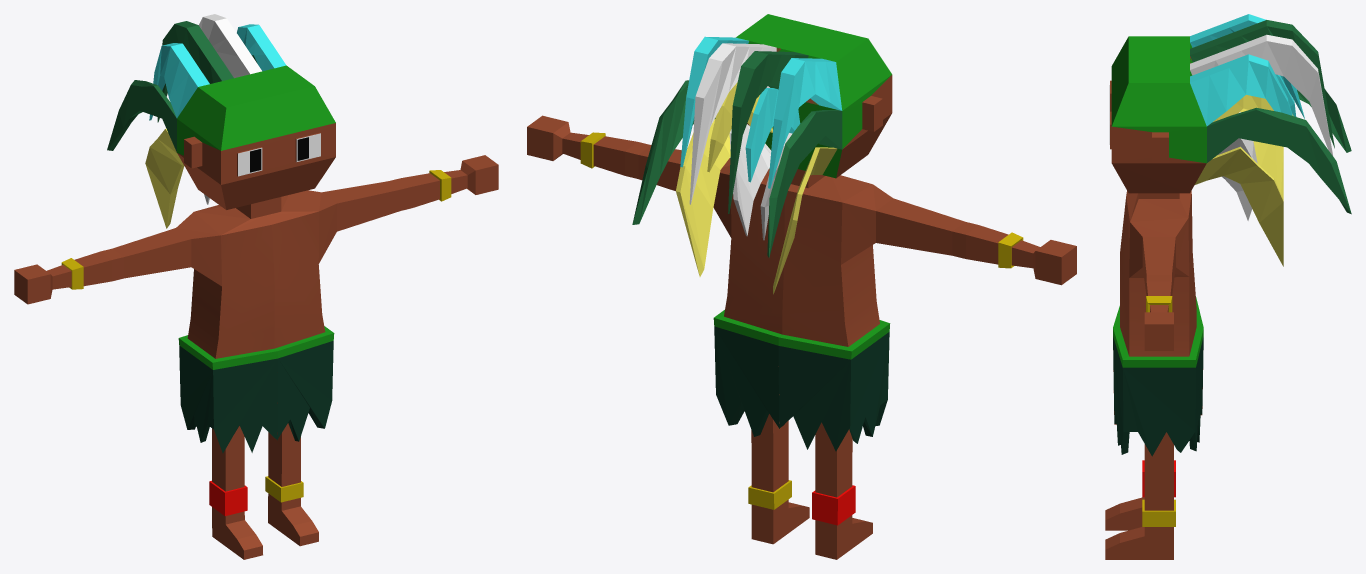
The model's file is Cualli (modelo y texturas).fbx.
3 renders of one model, left to right at view 1: azimuth 30°, elevation 25°; view 2: azimuth 150°, elevation 25°; view 3: azimuth 270°, elevation 25°, orthographic. The views are drawn at different scales.
Parts seen in each view (by area): view 1: Cualli; view 2: Cualli; view 3: Cualli.
Boxes of the visible parts, x1,y1,x2,y2 form: Cualli: (14,14,498,559); Cualli: (527,14,1076,559); Cualli: (1105,14,1351,559).
Size of the model in its own units: 97.44 by 93.46 by 40.96.
